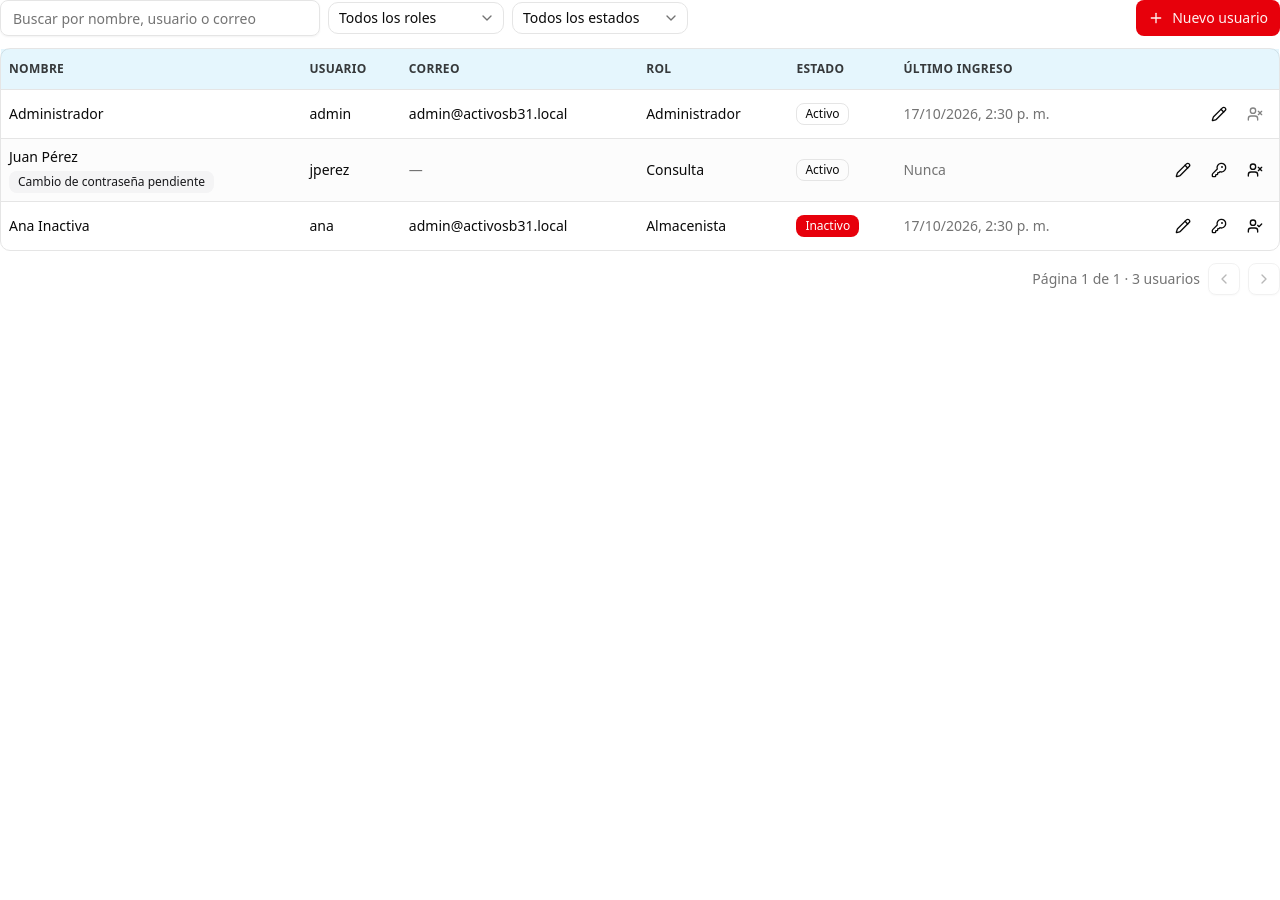
Test: UsersTab (US2, FR-007) › abre los diálogos de crear, editar y restablecer contraseña
The width and height of the screenshot is (1280, 900).
Check: the row "Juan Pérez" is shown, box [1,138,1279,201]
Click the button "Nuevo usuario".
click(1208, 18)  # box [1136,0,1279,36]
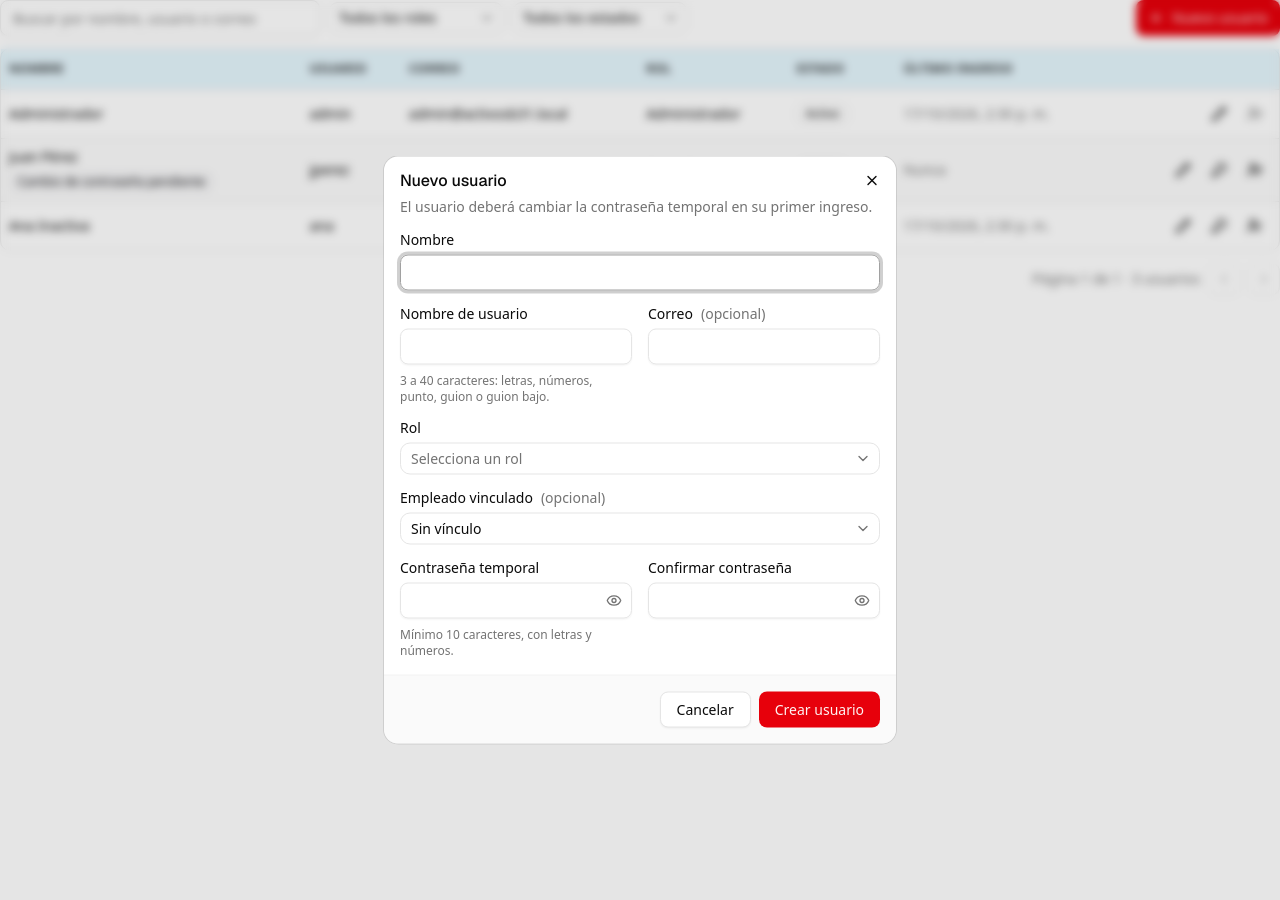
Check: the dialog "Nuevo usuario" is shown, box [384,156,896,744]
Click the button "Cancelar".
click(705, 710)  # box [660,692,751,728]
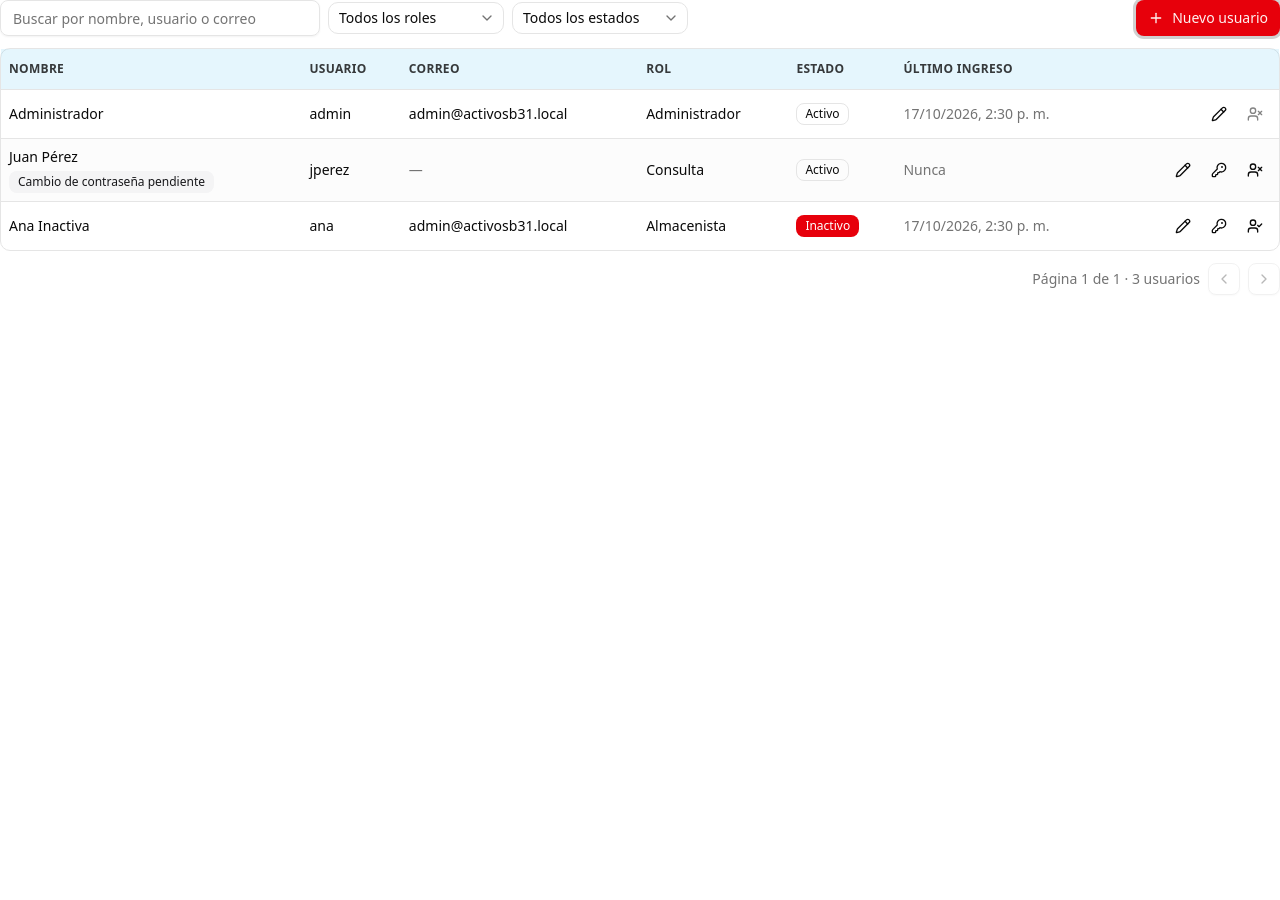
Click the button named "Editar Juan Pérez".
click(1183, 170)  # box [1167,154,1199,186]
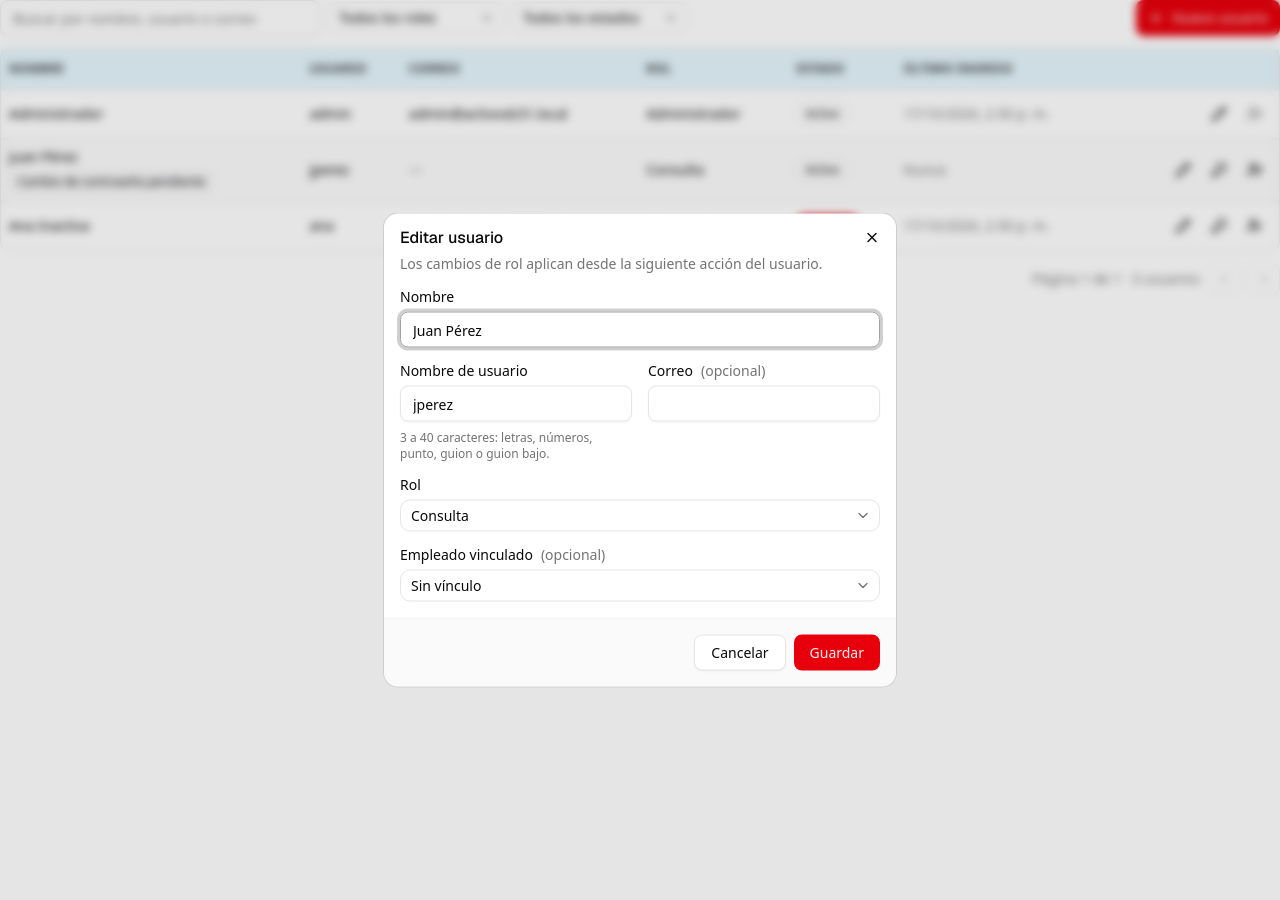
Check: the dialog "Editar usuario" is shown, box [384,214,896,686]
Click the button "Cancelar".
click(740, 652)  # box [694,634,786,670]
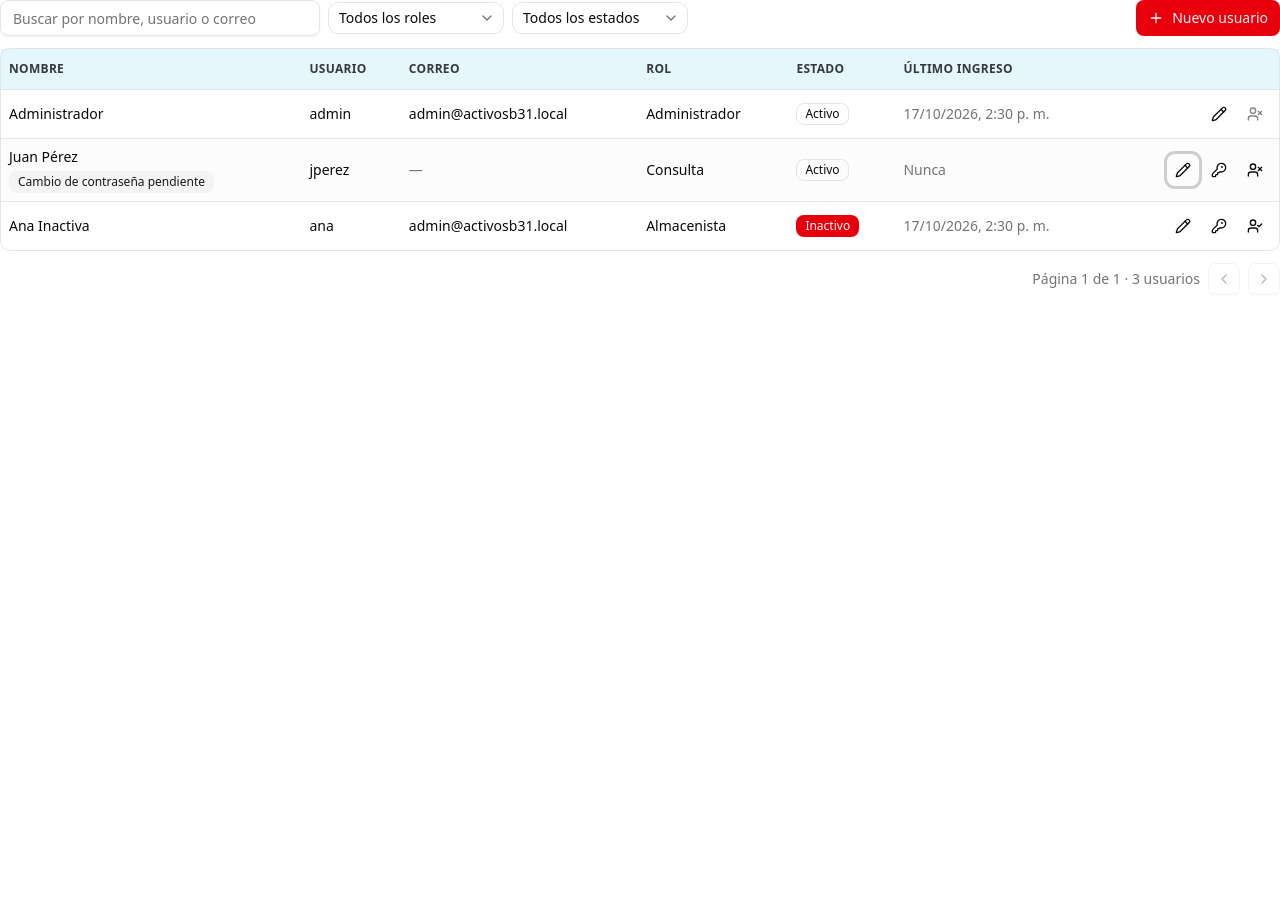
Click the button named "Restablecer contraseña de Juan Pérez".
click(1219, 170)  # box [1203,154,1235,186]
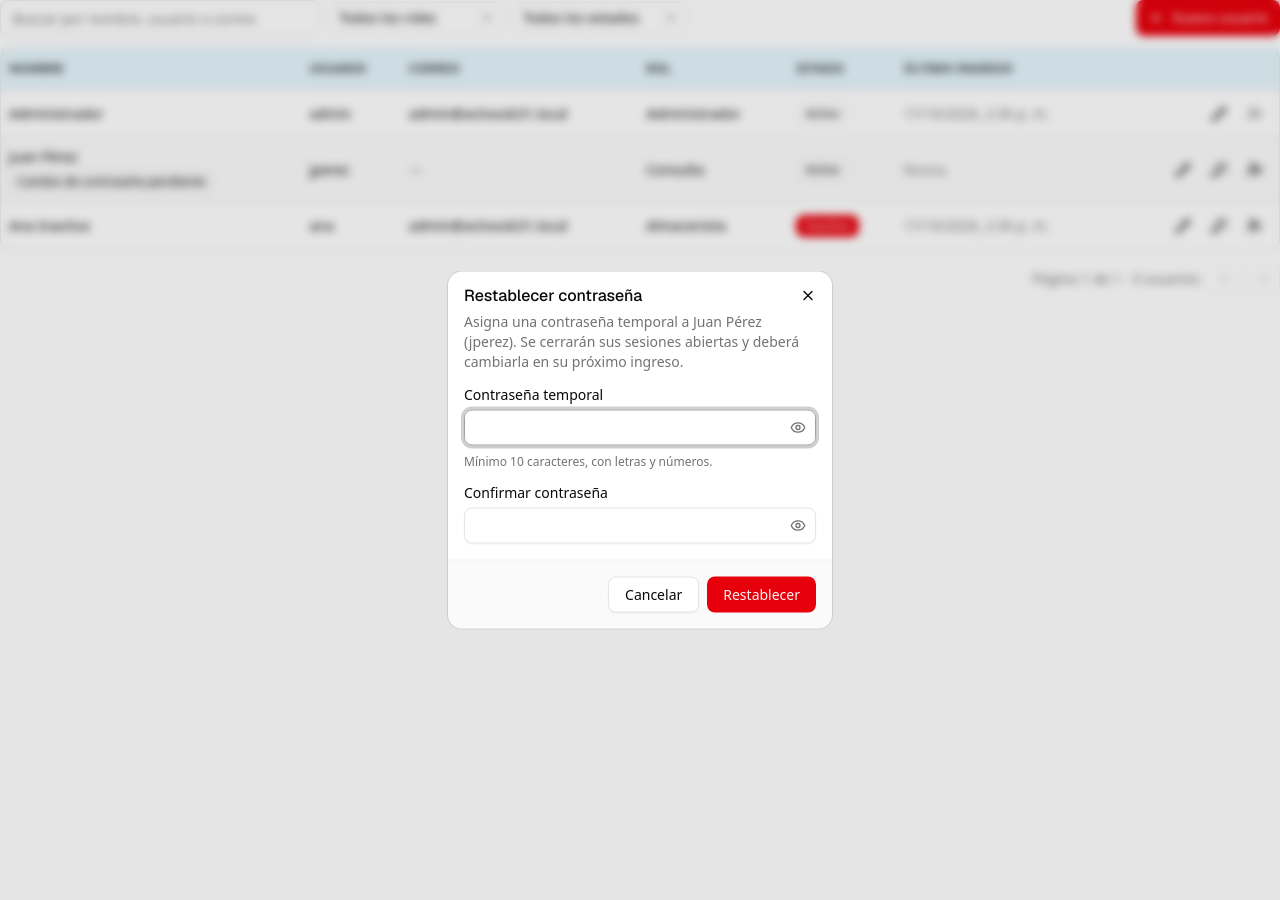
Check: the dialog "Restablecer contraseña" is shown, box [448,272,832,628]
